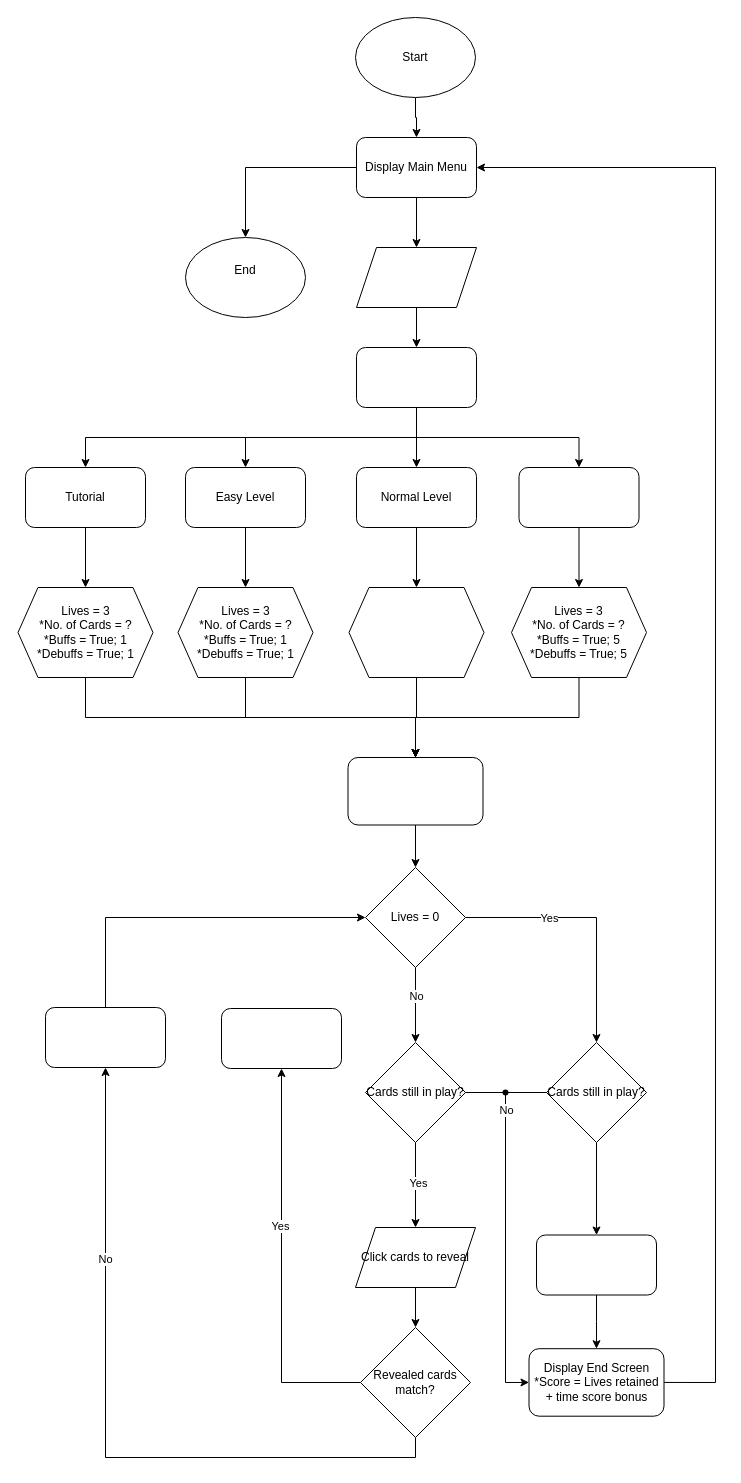
Some shapes in this 741 by 1483 pixel diagram are drawn without their labels. The shapes that lost their labels are listed below. From the top down, each one's centre as x and y in pixels, then its label:
[416,277]: Start Button
[416,377]: Display Level Select
[578,497]: Challenge Level
[416,632]: Lives = 3 *No. of Cards = ? *Buffs = True; 3 *Debuffs = True; 3
[415,790]: Display Game Board (cards, lives, and timer)
[105,1037]: Lives = Lives - 1 Flip back cards
[281,1038]: Remove cards from play
[596,1264]: Reveal remaining cards
